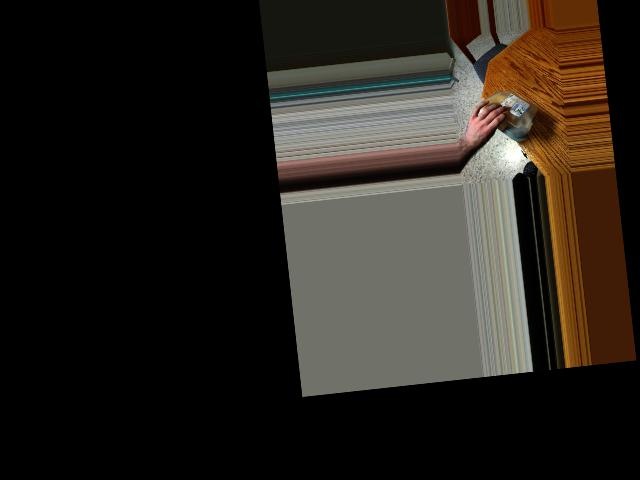cheese: (470, 84, 541, 143)
